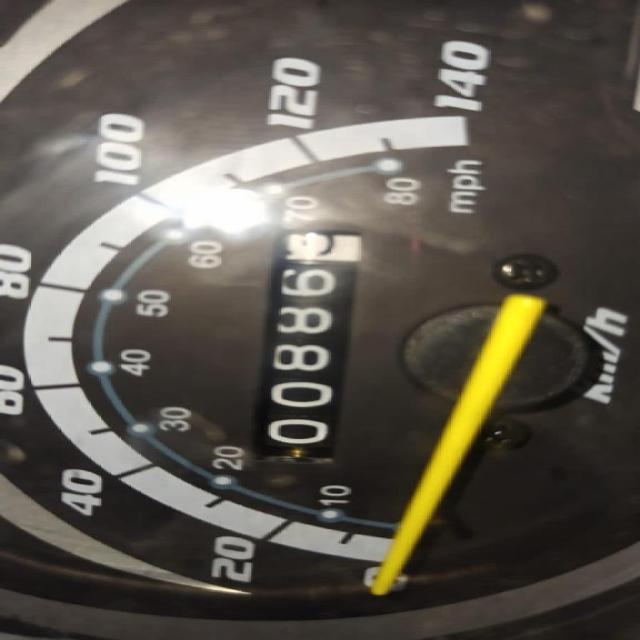odometer: (231, 221, 373, 468)
